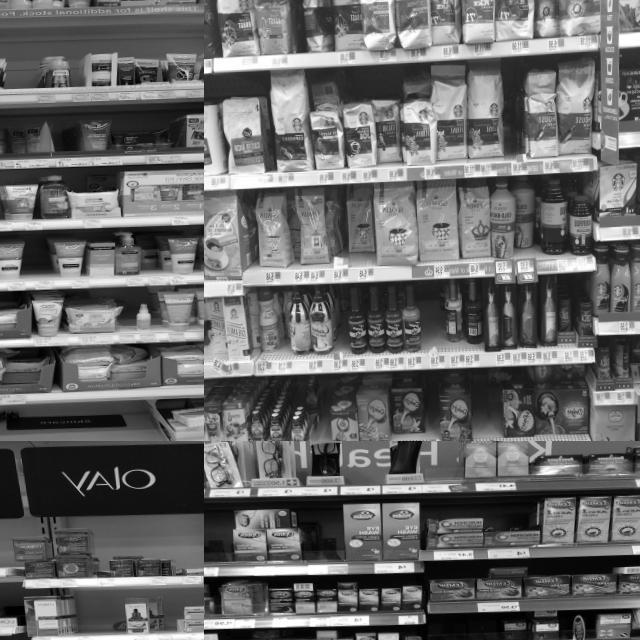empty_space: (299, 501, 344, 574), (0, 425, 157, 441), (339, 441, 381, 494), (204, 503, 233, 577), (420, 441, 460, 493), (426, 613, 494, 640), (6, 52, 34, 104), (75, 600, 111, 640), (476, 384, 501, 441), (422, 314, 446, 368), (557, 608, 597, 640), (504, 100, 519, 175), (25, 239, 47, 290), (118, 294, 135, 342), (332, 322, 348, 370), (54, 125, 69, 167), (425, 396, 439, 441), (313, 405, 330, 441), (162, 602, 177, 640)
